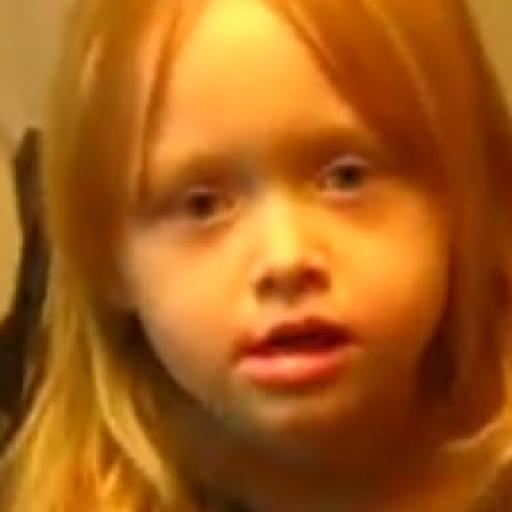Autism: (97, 0, 512, 469)
